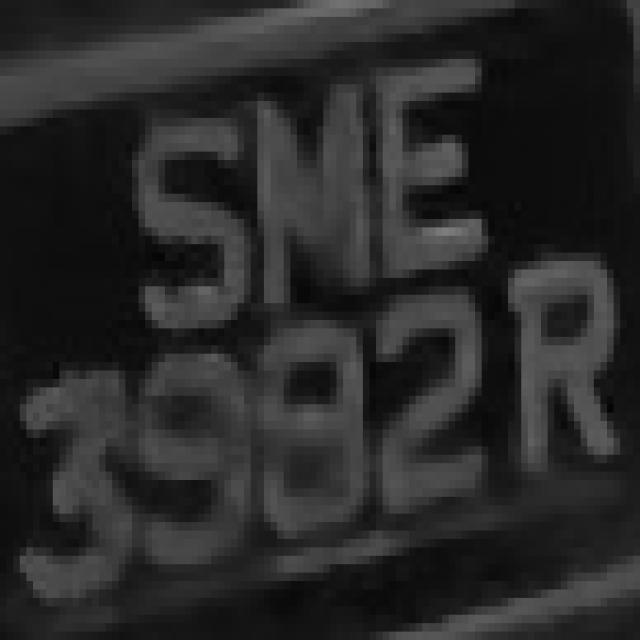2: (349, 253, 502, 547)
3: (6, 337, 126, 623)
8: (231, 286, 376, 573)
9: (125, 328, 251, 606)
E: (356, 34, 508, 261)
M: (237, 76, 363, 328)
R: (488, 219, 627, 522)
S: (112, 118, 251, 354)
